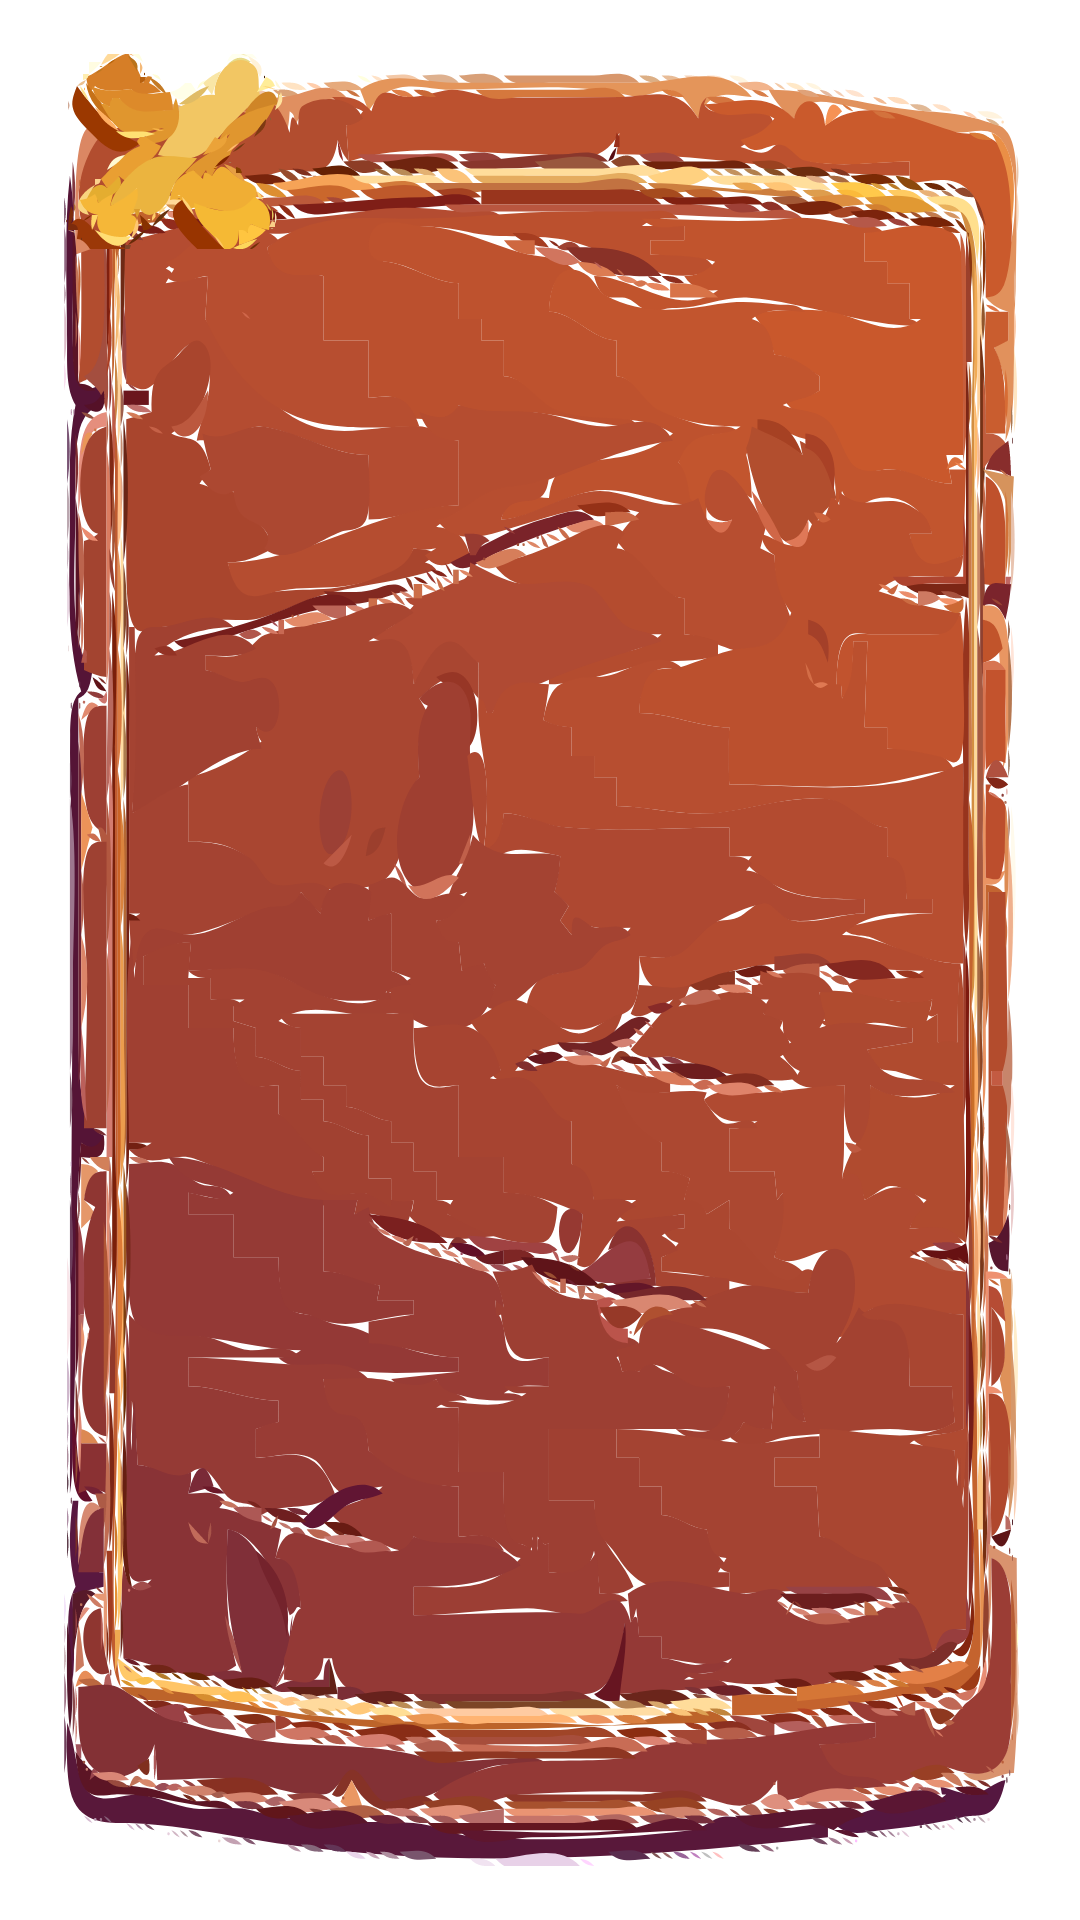

Named icons in this screenshot (1080×1920) and their centers, [x,y]:
close: [174,151]
